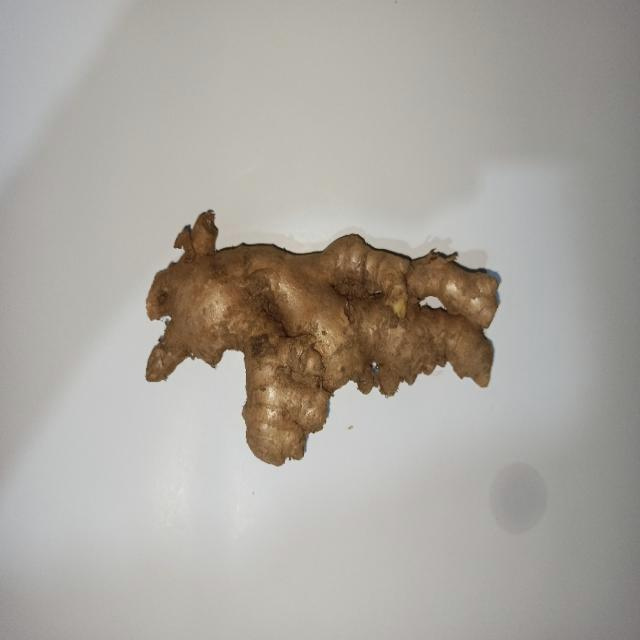ginger: (145, 210, 498, 470)
